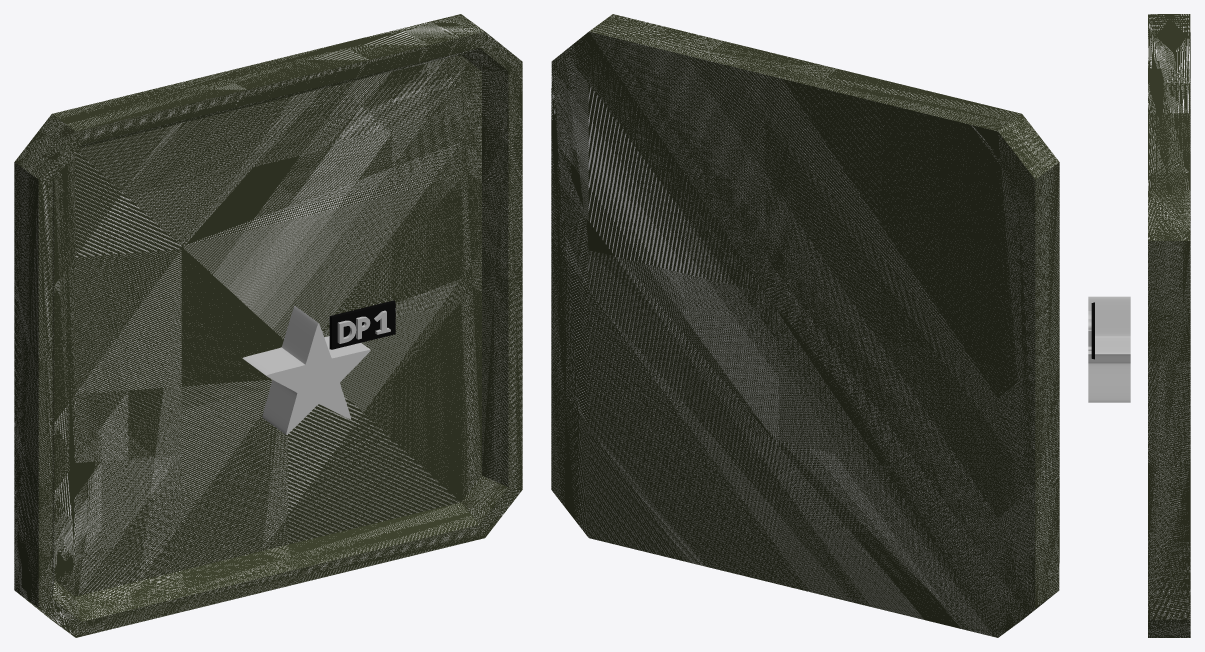
3 renders of one model, left to right at view 1: azimuth 30°, elevation 25°; view 2: azimuth 150°, elevation 25°; view 3: azimuth 270°, elevation 25°, orthographic. The views are drawn at different scales.
Visible parts, largest first — view 1: Button.001_ID13, Button_ID3, SM_CM_-_DP1_path1763-2.082; view 2: Button_ID3; view 3: Button_ID3, SM_CM_-_DP1_path1763-2.082.
Boxes of the visible parts, <box> form: Button.001_ID13: <box>52,48,508,621</box>; Button_ID3: <box>14,14,522,637</box>; SM_CM_-_DP1_path1763-2.082: <box>242,300,395,434</box>; Button_ID3: <box>551,14,1059,637</box>; Button_ID3: <box>1148,14,1190,637</box>; SM_CM_-_DP1_path1763-2.082: <box>1088,296,1130,402</box>.
Size of the model in its own units: 1 by 1 by 0.207.
